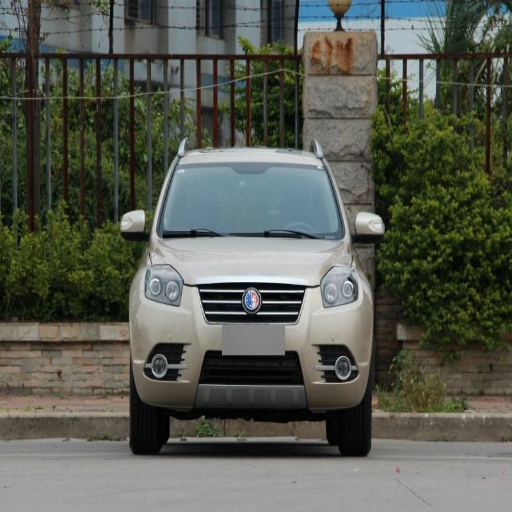front_bumper: (135, 284, 374, 415)
front_right_light: (142, 266, 183, 305)
hood: (151, 237, 349, 285)
